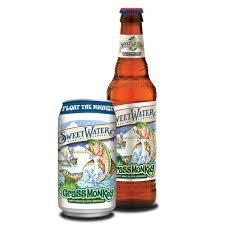bottle: (107, 8, 158, 210)
can: (58, 99, 116, 218)
